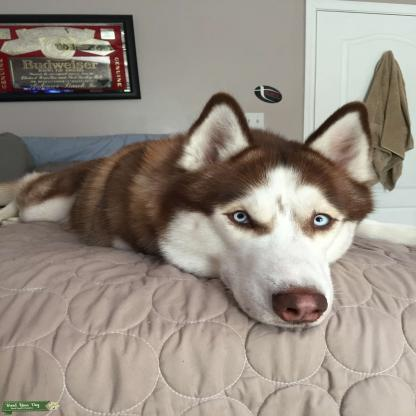dog: (0, 92, 380, 325)
